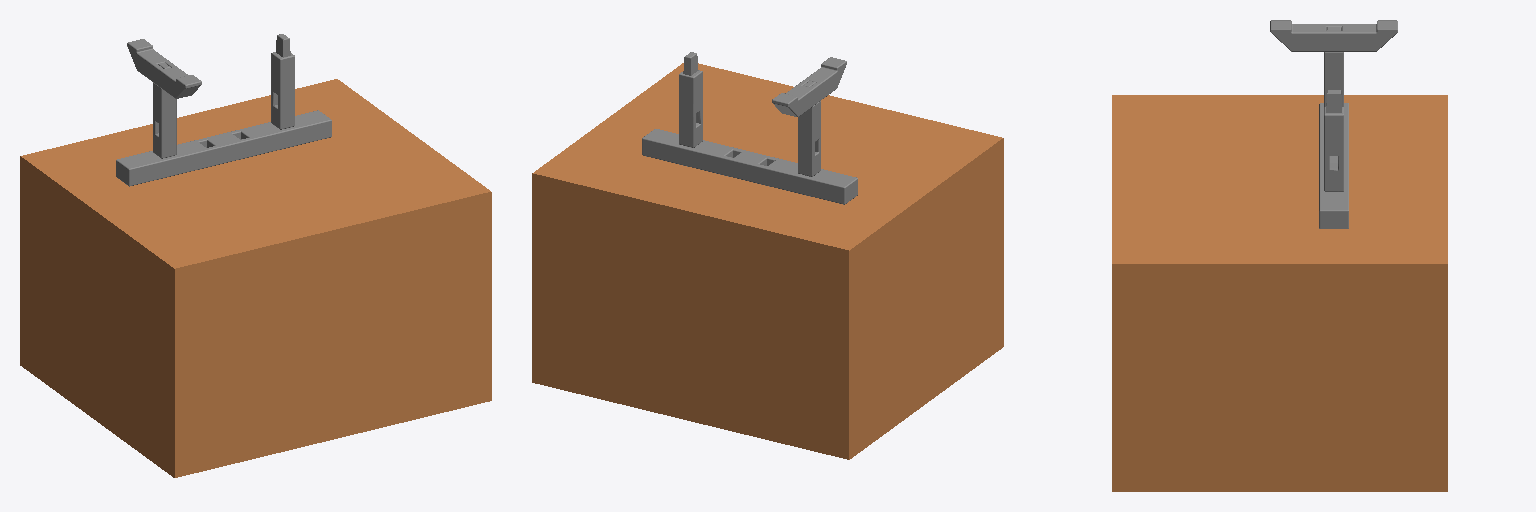
robot.urdf — table_beam_2x_1_scene_0032:
<?xml version="1.0"?>
<robot name="table_beam_2x_1_scene_0032">
  <link name="box">
    <visual>
      <material name="wood"><color rgba="0.82 0.56 0.35 1.0"/></material>
      <origin xyz="0 0 0"/>
      <geometry><box size="0.475 0.4 0.3"/></geometry>
    </visual>
    <collision>
      <origin xyz="0 0 0"/>
      <geometry><box size="0.475 0.4 0.3"/></geometry>
    </collision>
    <inertial>
      <mass value="500"/>
      <friction value="1.0"/>
      <inertia ixx="1000.0" ixy="0.0" ixz="0.0" iyy="1000.0" iyz="0.0" izz="1000.0"/>
    </inertial>
  </link>
  <link name="part_6_canonical">
    <visual>
      <origin xyz="0 0 0" rpy="0 0 0"/>
      <geometry><mesh filename="../../6/6_canonical.obj" scale="1 1 1"/></geometry>
      <material name="placed_0"><color rgba="0.6 0.6 0.6 1.0"/></material>
    </visual>
    <collision>
      <origin xyz="0 0 0" rpy="0 0 0"/>
      <geometry><mesh filename="../../6/6_canonical.obj" scale="1 1 1"/></geometry>
    </collision>
  </link>
  <joint name="part_6_canonical_joint" type="fixed">
    <parent link="box"/>
    <child link="part_6_canonical"/>
    <origin xyz="-0.010636 0.064731 0.162666" rpy="0.000000 0.000000 0.000000"/>
  </joint>
  <link name="part_2_canonical">
    <visual>
      <origin xyz="0 0 0" rpy="0 0 0"/>
      <geometry><mesh filename="../../2/2_canonical.obj" scale="1 1 1"/></geometry>
      <material name="placed_1"><color rgba="0.6 0.6 0.6 1.0"/></material>
    </visual>
    <collision>
      <origin xyz="0 0 0" rpy="0 0 0"/>
      <geometry><mesh filename="../../2/2_canonical.obj" scale="1 1 1"/></geometry>
    </collision>
  </link>
  <joint name="part_2_canonical_joint" type="fixed">
    <parent link="box"/>
    <child link="part_2_canonical"/>
    <origin xyz="-0.099562 0.064731 0.225384" rpy="0.000000 -1.570796 0.000000"/>
  </joint>
  <link name="part_0_canonical">
    <visual>
      <origin xyz="0 0 0" rpy="0 0 0"/>
      <geometry><mesh filename="../../0/0_canonical.obj" scale="1 1 1"/></geometry>
      <material name="placed_2"><color rgba="0.6 0.6 0.6 1.0"/></material>
    </visual>
    <collision>
      <origin xyz="0 0 0" rpy="0 0 0"/>
      <geometry><mesh filename="../../0/0_canonical.obj" scale="1 1 1"/></geometry>
    </collision>
  </link>
  <joint name="part_0_canonical_joint" type="fixed">
    <parent link="box"/>
    <child link="part_0_canonical"/>
    <origin xyz="-0.099535 0.064731 0.292243" rpy="1.570796 0.000000 -1.570796"/>
  </joint>
  <link name="part_3_hull_0">
    <visual>
      <origin xyz="0 0 0" rpy="0 0 0"/>
      <geometry><mesh filename="../../3/coacd/decomp_0.obj" scale="1 1 1"/></geometry>
      <material name="placed_3"><color rgba="0.6 0.6 0.6 1.0"/></material>
    </visual>
    <collision>
      <origin xyz="0 0 0" rpy="0 0 0"/>
      <geometry><mesh filename="../../3/coacd/decomp_0.obj" scale="1 1 1"/></geometry>
    </collision>
  </link>
  <joint name="part_3_hull_0_joint" type="fixed">
    <parent link="box"/>
    <child link="part_3_hull_0"/>
    <origin xyz="0.078292 0.064731 0.225384" rpy="0.000000 -1.570796 0.000000"/>
  </joint>
  <link name="part_3_hull_1">
    <visual>
      <origin xyz="0 0 0" rpy="0 0 0"/>
      <geometry><mesh filename="../../3/coacd/decomp_1.obj" scale="1 1 1"/></geometry>
      <material name="placed_4"><color rgba="0.6 0.6 0.6 1.0"/></material>
    </visual>
    <collision>
      <origin xyz="0 0 0" rpy="0 0 0"/>
      <geometry><mesh filename="../../3/coacd/decomp_1.obj" scale="1 1 1"/></geometry>
    </collision>
  </link>
  <joint name="part_3_hull_1_joint" type="fixed">
    <parent link="box"/>
    <child link="part_3_hull_1"/>
    <origin xyz="0.078292 0.064731 0.225384" rpy="0.000000 -1.570796 0.000000"/>
  </joint>
  <link name="part_3_hull_2">
    <visual>
      <origin xyz="0 0 0" rpy="0 0 0"/>
      <geometry><mesh filename="../../3/coacd/decomp_10.obj" scale="1 1 1"/></geometry>
      <material name="placed_5"><color rgba="0.6 0.6 0.6 1.0"/></material>
    </visual>
    <collision>
      <origin xyz="0 0 0" rpy="0 0 0"/>
      <geometry><mesh filename="../../3/coacd/decomp_10.obj" scale="1 1 1"/></geometry>
    </collision>
  </link>
  <joint name="part_3_hull_2_joint" type="fixed">
    <parent link="box"/>
    <child link="part_3_hull_2"/>
    <origin xyz="0.078292 0.064731 0.225384" rpy="0.000000 -1.570796 0.000000"/>
  </joint>
  <link name="part_3_hull_3">
    <visual>
      <origin xyz="0 0 0" rpy="0 0 0"/>
      <geometry><mesh filename="../../3/coacd/decomp_11.obj" scale="1 1 1"/></geometry>
      <material name="placed_6"><color rgba="0.6 0.6 0.6 1.0"/></material>
    </visual>
    <collision>
      <origin xyz="0 0 0" rpy="0 0 0"/>
      <geometry><mesh filename="../../3/coacd/decomp_11.obj" scale="1 1 1"/></geometry>
    </collision>
  </link>
  <joint name="part_3_hull_3_joint" type="fixed">
    <parent link="box"/>
    <child link="part_3_hull_3"/>
    <origin xyz="0.078292 0.064731 0.225384" rpy="0.000000 -1.570796 0.000000"/>
  </joint>
  <link name="part_3_hull_4">
    <visual>
      <origin xyz="0 0 0" rpy="0 0 0"/>
      <geometry><mesh filename="../../3/coacd/decomp_12.obj" scale="1 1 1"/></geometry>
      <material name="placed_7"><color rgba="0.6 0.6 0.6 1.0"/></material>
    </visual>
    <collision>
      <origin xyz="0 0 0" rpy="0 0 0"/>
      <geometry><mesh filename="../../3/coacd/decomp_12.obj" scale="1 1 1"/></geometry>
    </collision>
  </link>
  <joint name="part_3_hull_4_joint" type="fixed">
    <parent link="box"/>
    <child link="part_3_hull_4"/>
    <origin xyz="0.078292 0.064731 0.225384" rpy="0.000000 -1.570796 0.000000"/>
  </joint>
  <link name="part_3_hull_5">
    <visual>
      <origin xyz="0 0 0" rpy="0 0 0"/>
      <geometry><mesh filename="../../3/coacd/decomp_2.obj" scale="1 1 1"/></geometry>
      <material name="placed_8"><color rgba="0.6 0.6 0.6 1.0"/></material>
    </visual>
    <collision>
      <origin xyz="0 0 0" rpy="0 0 0"/>
      <geometry><mesh filename="../../3/coacd/decomp_2.obj" scale="1 1 1"/></geometry>
    </collision>
  </link>
  <joint name="part_3_hull_5_joint" type="fixed">
    <parent link="box"/>
    <child link="part_3_hull_5"/>
    <origin xyz="0.078292 0.064731 0.225384" rpy="0.000000 -1.570796 0.000000"/>
  </joint>
  <link name="part_3_hull_6">
    <visual>
      <origin xyz="0 0 0" rpy="0 0 0"/>
      <geometry><mesh filename="../../3/coacd/decomp_3.obj" scale="1 1 1"/></geometry>
      <material name="placed_9"><color rgba="0.6 0.6 0.6 1.0"/></material>
    </visual>
    <collision>
      <origin xyz="0 0 0" rpy="0 0 0"/>
      <geometry><mesh filename="../../3/coacd/decomp_3.obj" scale="1 1 1"/></geometry>
    </collision>
  </link>
  <joint name="part_3_hull_6_joint" type="fixed">
    <parent link="box"/>
    <child link="part_3_hull_6"/>
    <origin xyz="0.078292 0.064731 0.225384" rpy="0.000000 -1.570796 0.000000"/>
  </joint>
  <link name="part_3_hull_7">
    <visual>
      <origin xyz="0 0 0" rpy="0 0 0"/>
      <geometry><mesh filename="../../3/coacd/decomp_4.obj" scale="1 1 1"/></geometry>
      <material name="placed_10"><color rgba="0.6 0.6 0.6 1.0"/></material>
    </visual>
    <collision>
      <origin xyz="0 0 0" rpy="0 0 0"/>
      <geometry><mesh filename="../../3/coacd/decomp_4.obj" scale="1 1 1"/></geometry>
    </collision>
  </link>
  <joint name="part_3_hull_7_joint" type="fixed">
    <parent link="box"/>
    <child link="part_3_hull_7"/>
    <origin xyz="0.078292 0.064731 0.225384" rpy="0.000000 -1.570796 0.000000"/>
  </joint>
  <link name="part_3_hull_8">
    <visual>
      <origin xyz="0 0 0" rpy="0 0 0"/>
      <geometry><mesh filename="../../3/coacd/decomp_5.obj" scale="1 1 1"/></geometry>
      <material name="placed_11"><color rgba="0.6 0.6 0.6 1.0"/></material>
    </visual>
    <collision>
      <origin xyz="0 0 0" rpy="0 0 0"/>
      <geometry><mesh filename="../../3/coacd/decomp_5.obj" scale="1 1 1"/></geometry>
    </collision>
  </link>
  <joint name="part_3_hull_8_joint" type="fixed">
    <parent link="box"/>
    <child link="part_3_hull_8"/>
    <origin xyz="0.078292 0.064731 0.225384" rpy="0.000000 -1.570796 0.000000"/>
  </joint>
  <link name="part_3_hull_9">
    <visual>
      <origin xyz="0 0 0" rpy="0 0 0"/>
      <geometry><mesh filename="../../3/coacd/decomp_6.obj" scale="1 1 1"/></geometry>
      <material name="placed_12"><color rgba="0.6 0.6 0.6 1.0"/></material>
    </visual>
    <collision>
      <origin xyz="0 0 0" rpy="0 0 0"/>
      <geometry><mesh filename="../../3/coacd/decomp_6.obj" scale="1 1 1"/></geometry>
    </collision>
  </link>
  <joint name="part_3_hull_9_joint" type="fixed">
    <parent link="box"/>
    <child link="part_3_hull_9"/>
    <origin xyz="0.078292 0.064731 0.225384" rpy="0.000000 -1.570796 0.000000"/>
  </joint>
  <link name="part_3_hull_10">
    <visual>
      <origin xyz="0 0 0" rpy="0 0 0"/>
      <geometry><mesh filename="../../3/coacd/decomp_7.obj" scale="1 1 1"/></geometry>
      <material name="placed_13"><color rgba="0.6 0.6 0.6 1.0"/></material>
    </visual>
    <collision>
      <origin xyz="0 0 0" rpy="0 0 0"/>
      <geometry><mesh filename="../../3/coacd/decomp_7.obj" scale="1 1 1"/></geometry>
    </collision>
  </link>
  <joint name="part_3_hull_10_joint" type="fixed">
    <parent link="box"/>
    <child link="part_3_hull_10"/>
    <origin xyz="0.078292 0.064731 0.225384" rpy="0.000000 -1.570796 0.000000"/>
  </joint>
  <link name="part_3_hull_11">
    <visual>
      <origin xyz="0 0 0" rpy="0 0 0"/>
      <geometry><mesh filename="../../3/coacd/decomp_8.obj" scale="1 1 1"/></geometry>
      <material name="placed_14"><color rgba="0.6 0.6 0.6 1.0"/></material>
    </visual>
    <collision>
      <origin xyz="0 0 0" rpy="0 0 0"/>
      <geometry><mesh filename="../../3/coacd/decomp_8.obj" scale="1 1 1"/></geometry>
    </collision>
  </link>
  <joint name="part_3_hull_11_joint" type="fixed">
    <parent link="box"/>
    <child link="part_3_hull_11"/>
    <origin xyz="0.078292 0.064731 0.225384" rpy="0.000000 -1.570796 0.000000"/>
  </joint>
  <link name="part_3_hull_12">
    <visual>
      <origin xyz="0 0 0" rpy="0 0 0"/>
      <geometry><mesh filename="../../3/coacd/decomp_9.obj" scale="1 1 1"/></geometry>
      <material name="placed_15"><color rgba="0.6 0.6 0.6 1.0"/></material>
    </visual>
    <collision>
      <origin xyz="0 0 0" rpy="0 0 0"/>
      <geometry><mesh filename="../../3/coacd/decomp_9.obj" scale="1 1 1"/></geometry>
    </collision>
  </link>
  <joint name="part_3_hull_12_joint" type="fixed">
    <parent link="box"/>
    <child link="part_3_hull_12"/>
    <origin xyz="0.078292 0.064731 0.225384" rpy="0.000000 -1.570796 0.000000"/>
  </joint>
</robot>

--- Render facts (derived) ---
3 views of the same robot in one strip: view 1: azimuth 30°, elevation 25°; view 2: azimuth 150°, elevation 25°; view 3: azimuth 270°, elevation 25° (orthographic).
Robot: table_beam_2x_1_scene_0032 — 17 links, 16 joints (16 fixed); root link box; default pose: all joints at 0.
Links seen in each view (by area): view 1: box, part_6_canonical, part_0_canonical, part_2_canonical, part_3_hull_7; view 2: box, part_6_canonical, part_0_canonical, part_2_canonical, part_3_hull_11; view 3: box, part_0_canonical, part_6_canonical, part_2_canonical, part_3_hull_0.
Link boxes in pixels (x1,y1,x2,y2): box: [20, 79, 491, 477]; part_6_canonical: [116, 110, 331, 186]; part_0_canonical: [127, 39, 201, 98]; part_2_canonical: [153, 63, 176, 158]; part_3_hull_7: [284, 56, 291, 128]; box: [532, 63, 1003, 459]; part_6_canonical: [642, 129, 857, 204]; part_0_canonical: [772, 57, 846, 116]; part_2_canonical: [798, 81, 820, 176]; part_3_hull_11: [682, 74, 689, 146]; box: [1112, 95, 1447, 491]; part_0_canonical: [1270, 20, 1397, 51]; part_6_canonical: [1319, 103, 1348, 228]; part_2_canonical: [1324, 27, 1343, 106]; part_3_hull_0: [1324, 113, 1343, 155].
Bounding box of the posed robot: 0.475 × 0.4 × 0.4575 m (x, y, z).
Meshes: 16 distinct files referenced, 16 mesh visuals loaded (16 OBJ).
